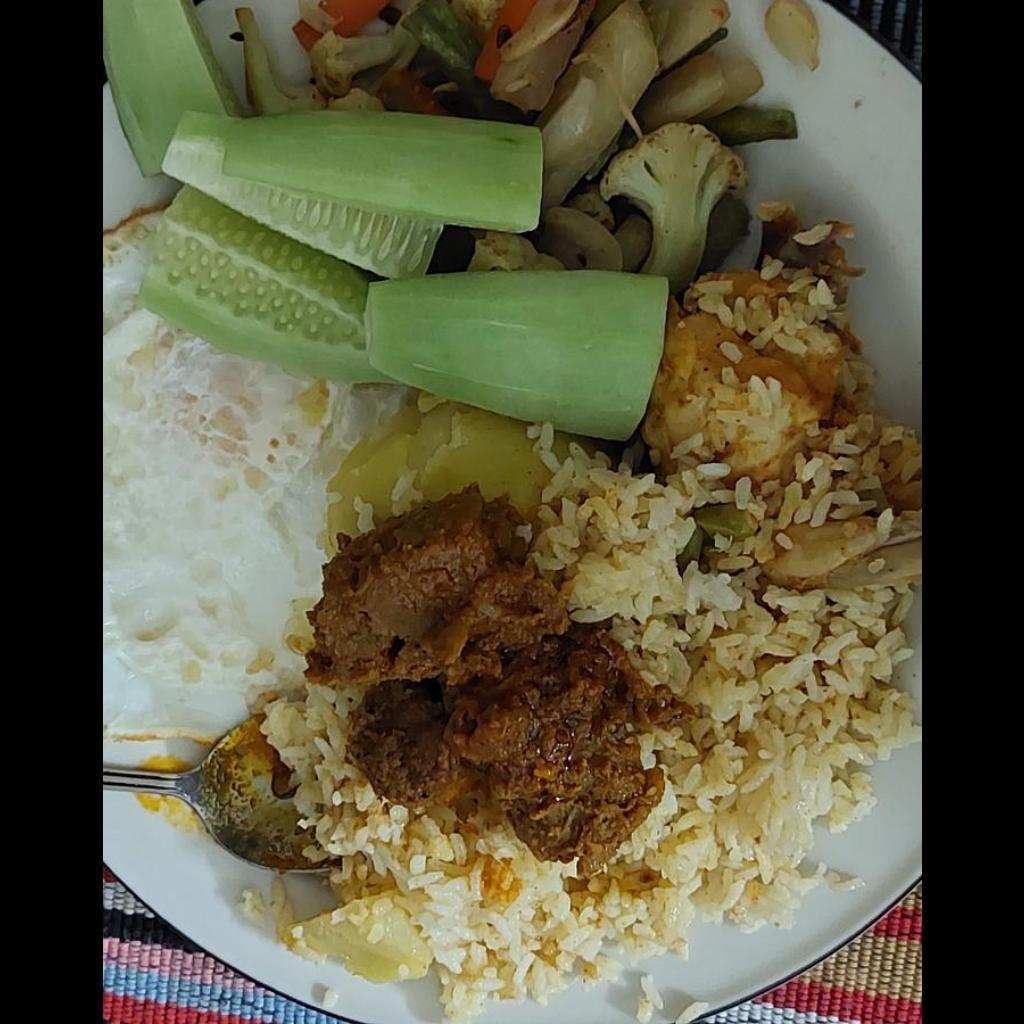beef: (307, 495, 624, 860)
cucumber: (102, 4, 667, 444)
egg-poached: (103, 216, 350, 751)
rice: (220, 224, 920, 1019)
vegetable: (235, 0, 812, 286)
